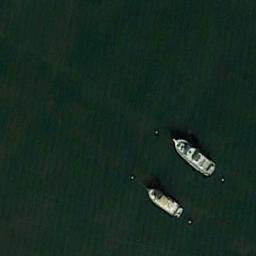boat: (172, 136, 215, 176), (143, 186, 183, 218)
